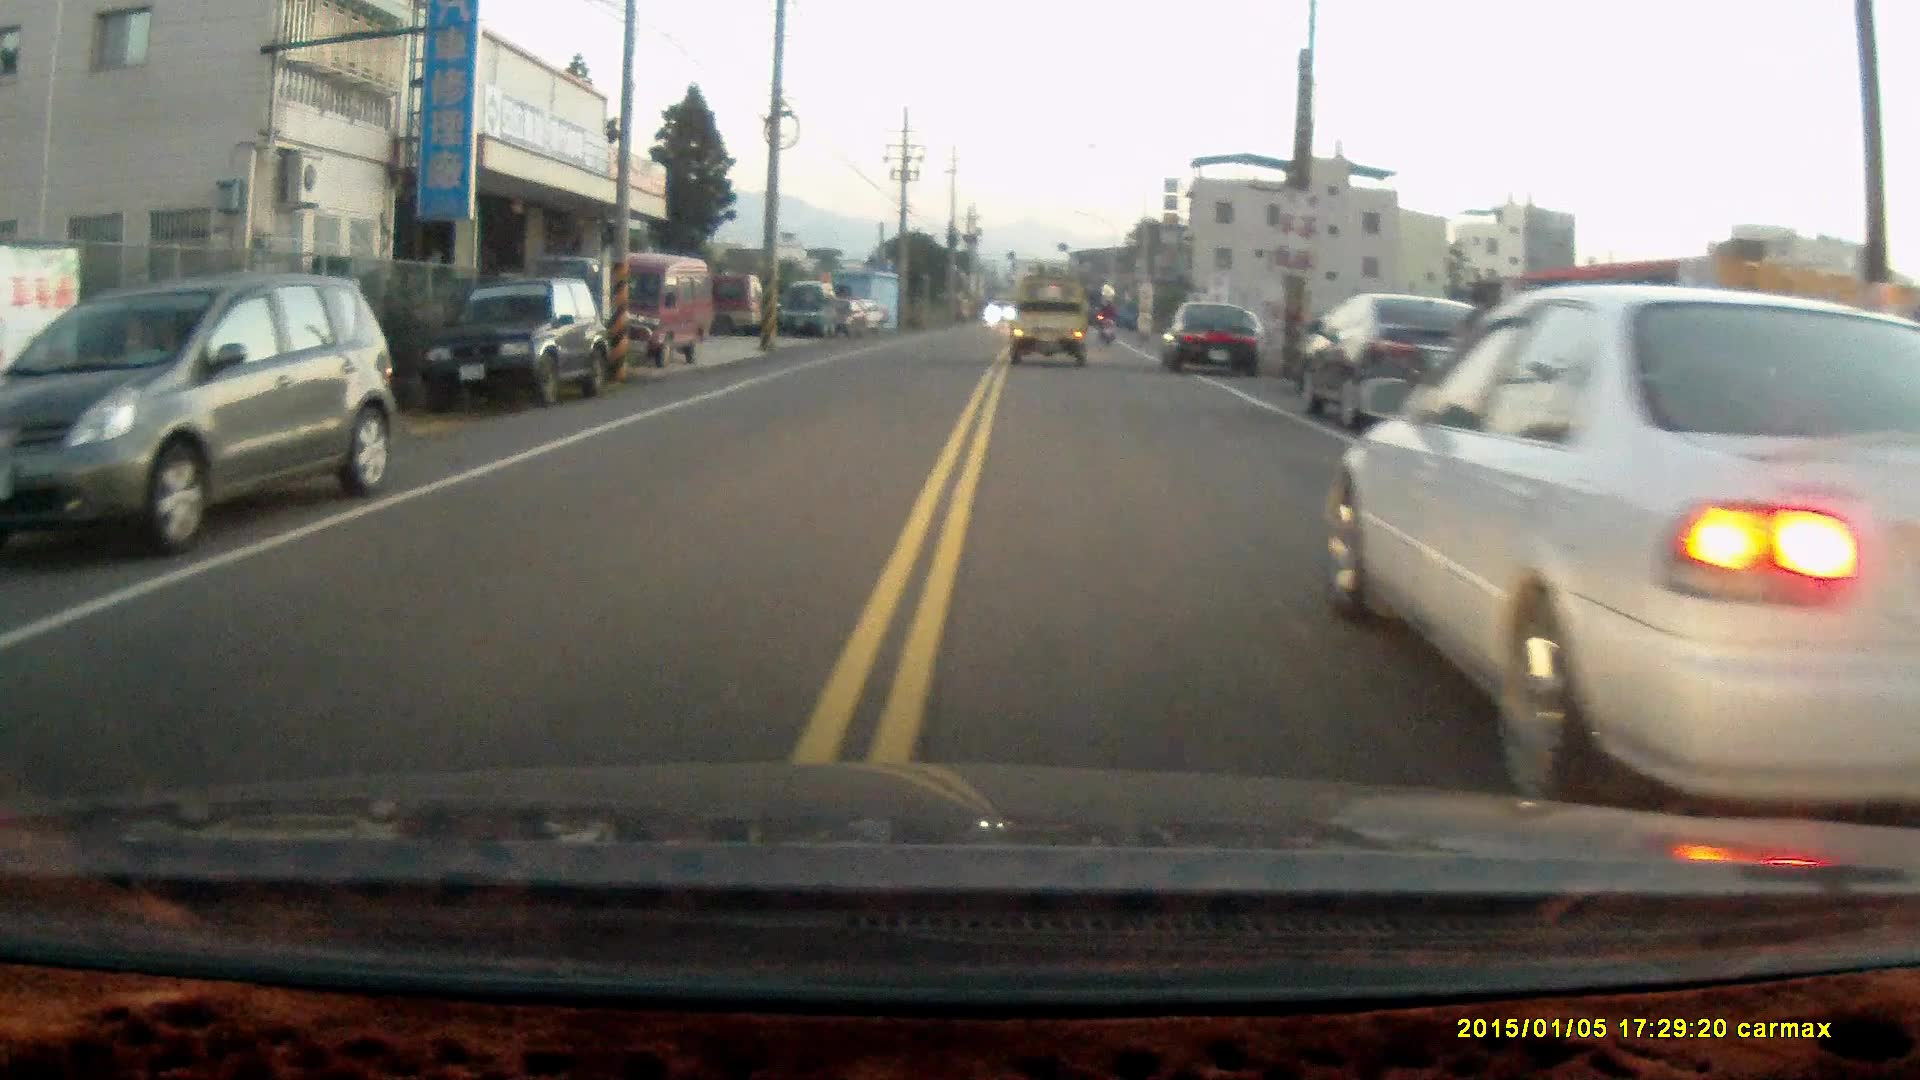rider: (1093, 296, 1119, 344)
vehicle: (1320, 273, 1920, 816), (1, 278, 401, 565), (1298, 289, 1520, 437), (423, 273, 606, 408), (571, 253, 715, 368), (1162, 298, 1268, 374), (1004, 277, 1097, 362), (781, 279, 845, 338)
